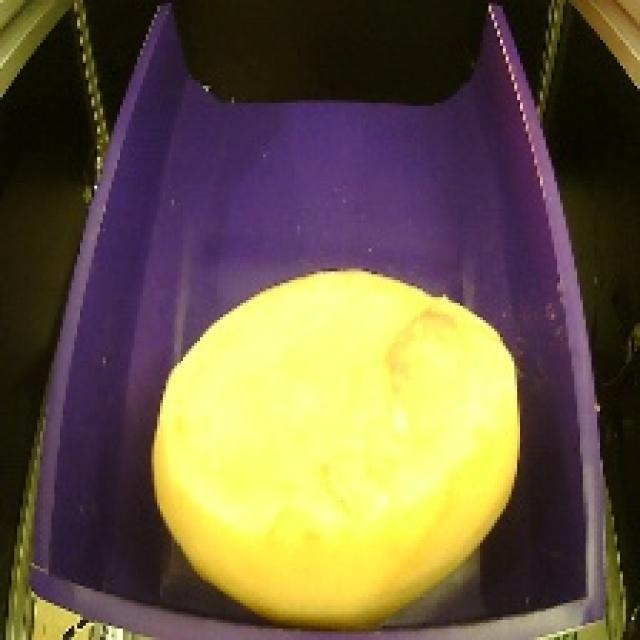full_potato: (138, 249, 532, 634)
